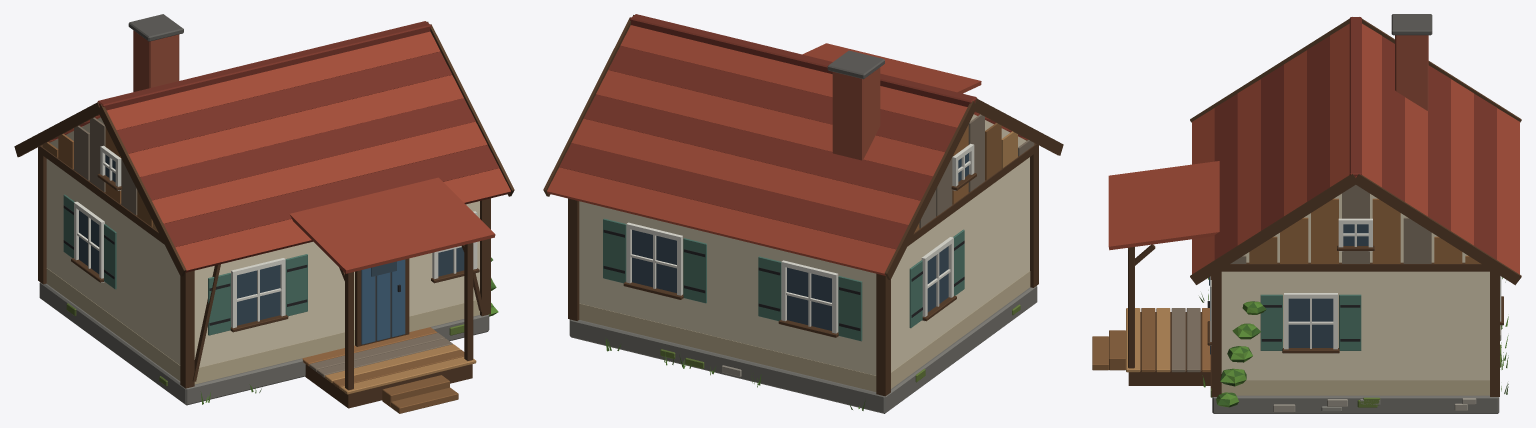
File: SmallHouse.fbx
3 views of the same model, side by side, from view 1: azimuth 30°, elevation 25°; view 2: azimuth 150°, elevation 25°; view 3: azimuth 270°, elevation 25° (orthographic). The views are drawn at different scales.
Parts seen in each view (by area): view 1: SmallHouse; view 2: SmallHouse; view 3: SmallHouse.
Part boxes in pixels (bbox=[...]): SmallHouse: bbox=[14, 14, 514, 413]; SmallHouse: bbox=[543, 14, 1063, 413]; SmallHouse: bbox=[1092, 14, 1521, 413].
Bounding box in the file's own units: 6.67 × 5.55 × 7.66.
Materials: 1 (1 with a texture image).
